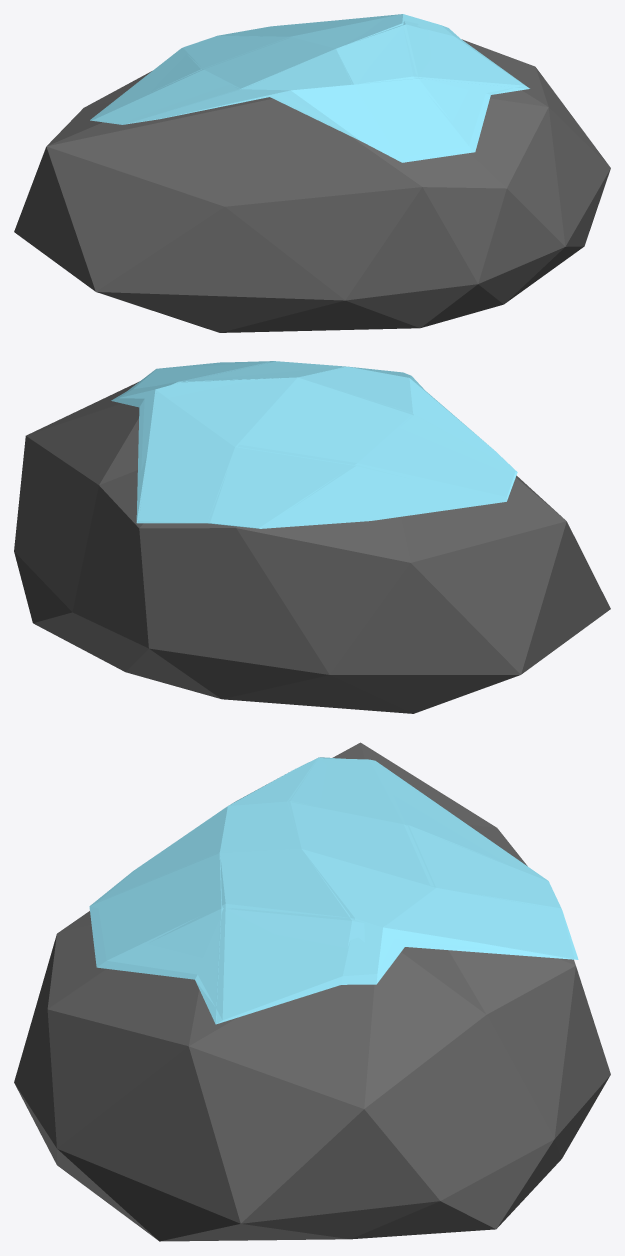
File: Rock_3.fbx
The picture shows the model from 3 angles, top to bottom: view 1: azimuth 30°, elevation 25°; view 2: azimuth 150°, elevation 25°; view 3: azimuth 270°, elevation 25°; orthographic projection. The views are drawn at different scales.
Visible parts, largest first — view 1: Rock_3, Snow_3; view 2: Rock_3, Snow_3; view 3: Rock_3, Snow_3.
Boxes of the visible parts, bbox=[...] form: Rock_3: bbox=[14, 39, 610, 332]; Snow_3: bbox=[90, 14, 529, 162]; Rock_3: bbox=[14, 381, 610, 713]; Snow_3: bbox=[111, 361, 517, 528]; Rock_3: bbox=[14, 742, 610, 1241]; Snow_3: bbox=[89, 757, 578, 1024].
Size of the model in its own units: 294 by 122 by 224.
